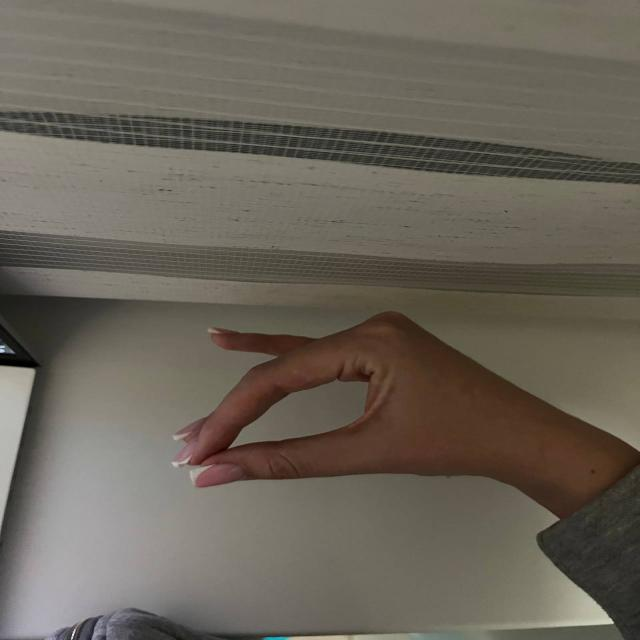iu: (168, 311, 530, 512)
